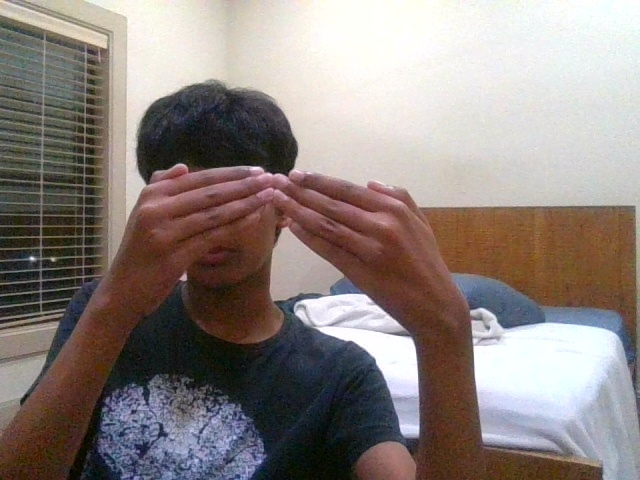thanks: (116, 164, 464, 332)
